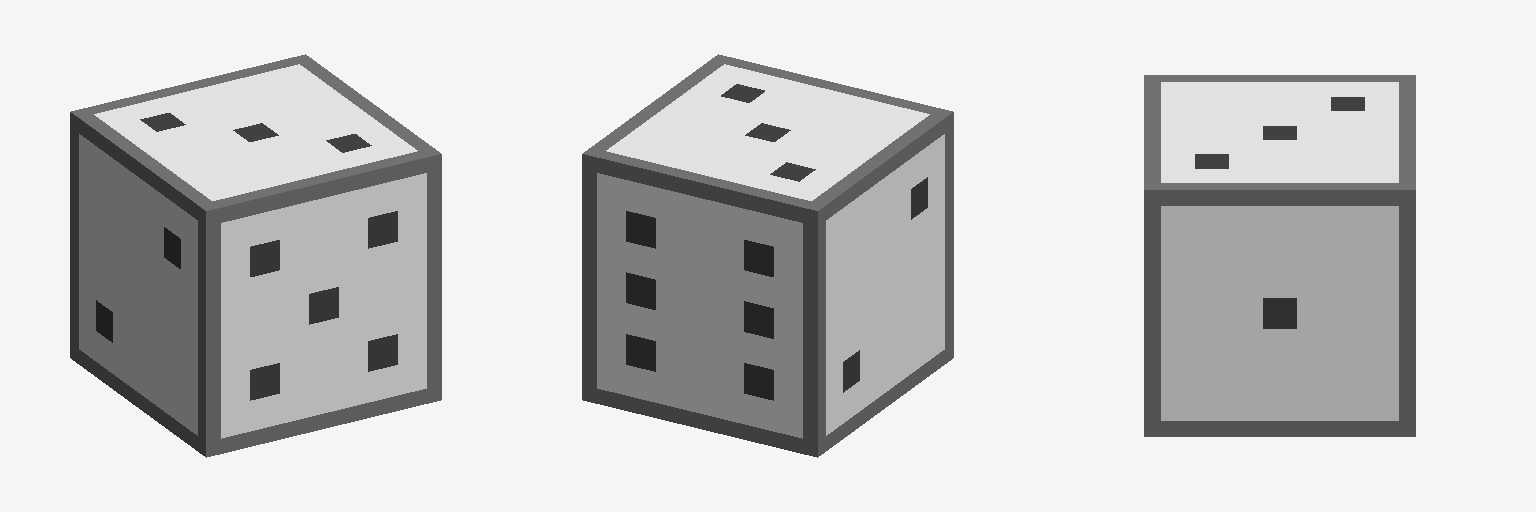
3 views of the same model, side by side, from view 1: azimuth 30°, elevation 25°; view 2: azimuth 150°, elevation 25°; view 3: azimuth 270°, elevation 25° (orthographic).
Parts seen in each view (by area): view 1: cube-tex; view 2: cube-tex; view 3: cube-tex.
Boxes of the visible parts, box(x1,y1,x2,y2) form: cube-tex: box(70, 54, 441, 457); cube-tex: box(582, 54, 953, 457); cube-tex: box(1144, 75, 1415, 436).
Bounding box in the file's own units: 1 × 1 × 1.
1 materials, 1 textured.